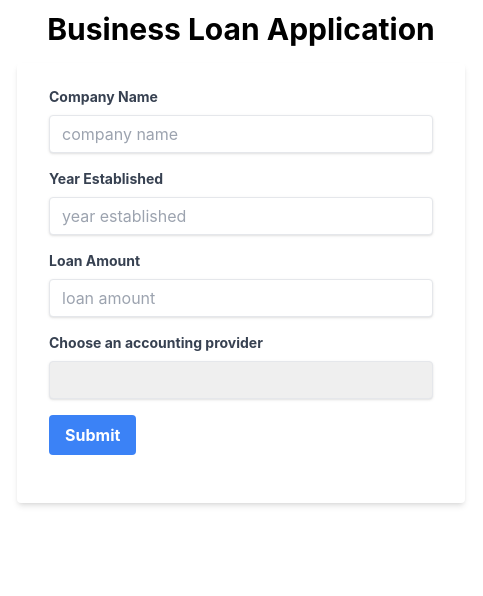
it: LoanApp › should show error message when loan amount input is invalid
The width and height of the screenshot is (483, 596).
Type "0" into the number field labelled "Loan Amount" at (241, 298), box [49, 279, 433, 317]
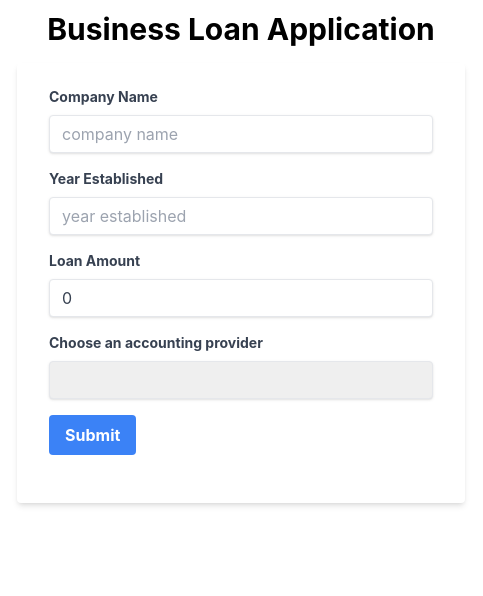
Click the button "Submit" at (93, 435), box [49, 415, 136, 455]
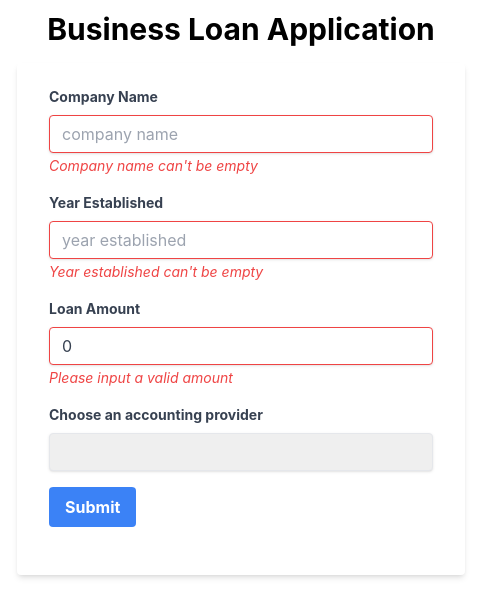
Now the text "Please input a valid amount" is shown, box [49, 369, 233, 386]
